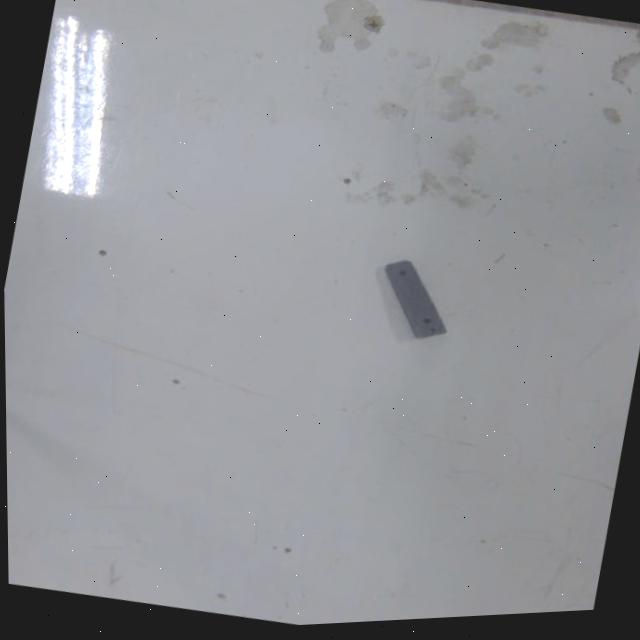grey: (369, 253, 470, 350)
head: (396, 266, 408, 276)
